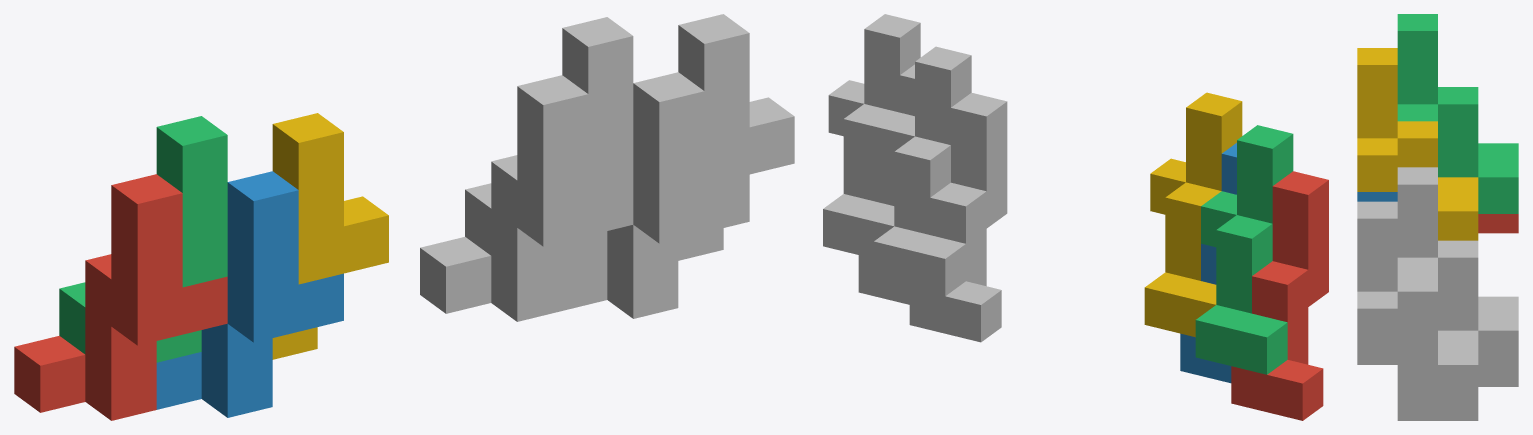
The model's file is tiling.obj.
The picture shows the model from 3 angles, left to right: view 1: azimuth 30°, elevation 25°; view 2: azimuth 150°, elevation 25°; view 3: azimuth 270°, elevation 25°; orthographic projection. The views are drawn at different scales.
Visible parts, largest first — view 1: copy_1_domain_1, copy_1_domain_5, copy_1_domain_6, copy_1_domain_2, copy_1_domain_4, copy_1_domain_8, copy_1_domain_7, copy_1_domain_3; view 2: copy_1_domain_7, copy_1_domain_3, copy_1_domain_1, copy_1_domain_5, copy_1_domain_8, copy_1_domain_4, copy_1_domain_2, copy_1_domain_6; view 3: copy_1_domain_8, copy_1_domain_7, copy_1_domain_3, copy_1_domain_4, copy_1_domain_6, copy_1_domain_1, copy_1_domain_5, copy_1_domain_2.
Part boxes in pixels (x1,y1,x2,y2): copy_1_domain_1: (14,174,227,420); copy_1_domain_5: (420,75,633,321); copy_1_domain_6: (562,72,749,318); copy_1_domain_2: (156,171,343,417); copy_1_domain_4: (272,113,388,359); copy_1_domain_8: (678,14,794,260); copy_1_domain_7: (465,17,633,263); copy_1_domain_3: (59,116,227,362); copy_1_domain_7: (874,46,971,296); copy_1_domain_3: (1195,125,1293,374); copy_1_domain_1: (1231,171,1328,420); copy_1_domain_5: (909,92,1007,342); copy_1_domain_8: (823,14,920,258); copy_1_domain_4: (1144,92,1242,337); copy_1_domain_2: (1180,143,1236,383); copy_1_domain_6: (858,64,914,304); copy_1_domain_8: (1357,201,1478,401); copy_1_domain_7: (1397,167,1518,367); copy_1_domain_3: (1397,14,1518,213); copy_1_domain_4: (1357,48,1478,240); copy_1_domain_6: (1357,345,1478,420); copy_1_domain_1: (1478,214,1518,233); copy_1_domain_5: (1478,367,1518,386); copy_1_domain_2: (1357,192,1397,201).
Size of the model in its own units: 15 by 6 by 4.
